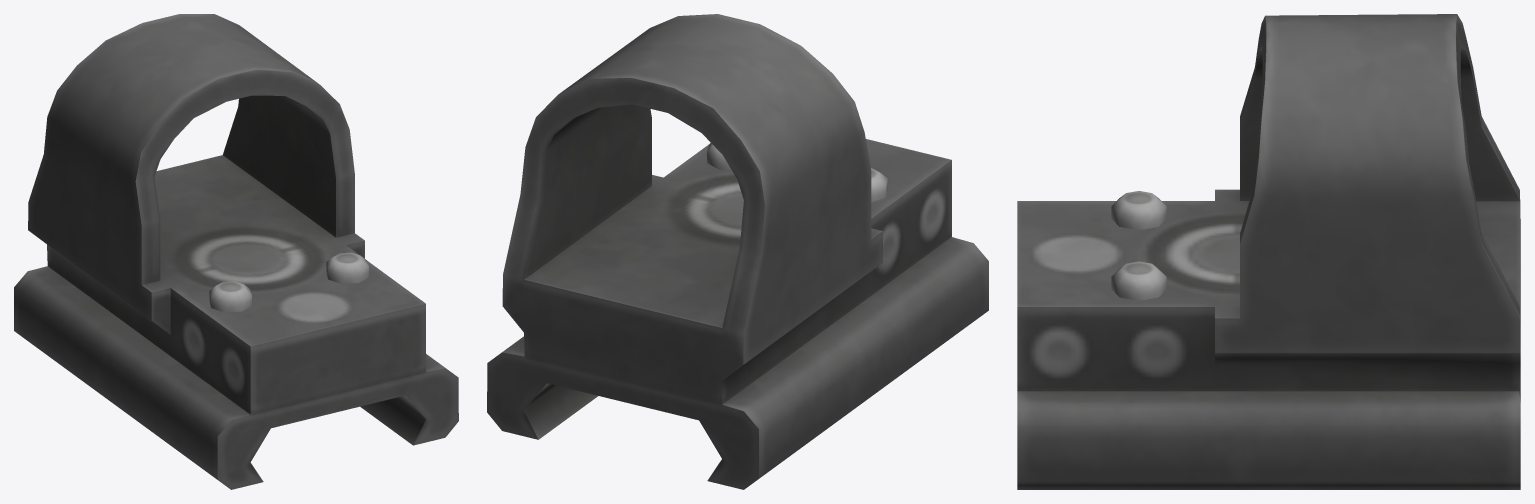
Rendered from IG_Acc_Scope_All_Long_1.fbx.
3 views of the same model, side by side, from view 1: azimuth 30°, elevation 25°; view 2: azimuth 150°, elevation 25°; view 3: azimuth 270°, elevation 25° (orthographic). The views are drawn at different scales.
Visible parts, largest first — view 1: Scope_All_Long_1; view 2: Scope_All_Long_1; view 3: Scope_All_Long_1.
Boxes of the visible parts, x1,y1,x2,y2 form: Scope_All_Long_1: [14, 14, 458, 489]; Scope_All_Long_1: [487, 14, 988, 489]; Scope_All_Long_1: [1017, 14, 1520, 489].
Bounding box in the file's own units: 0.0915 × 0.1145 × 0.1338.
